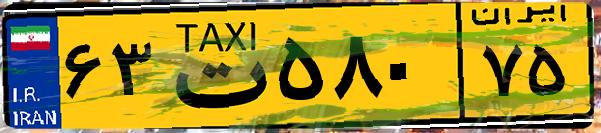0: (385, 28, 445, 110)
3: (110, 28, 158, 98)
5: (270, 28, 330, 110), (525, 38, 570, 115)
6: (57, 26, 110, 100)
7: (475, 38, 525, 113)
8: (330, 28, 385, 110)
ت: (158, 12, 270, 120)
